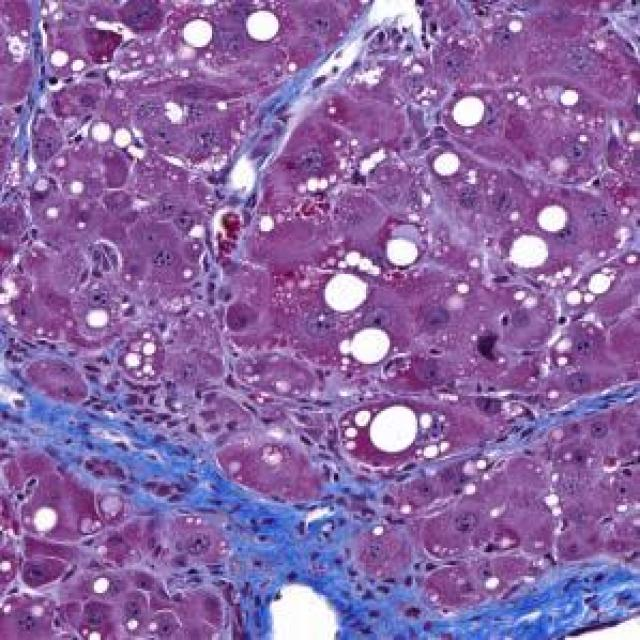fibrosis: (208, 471, 418, 614), (47, 390, 253, 518)
